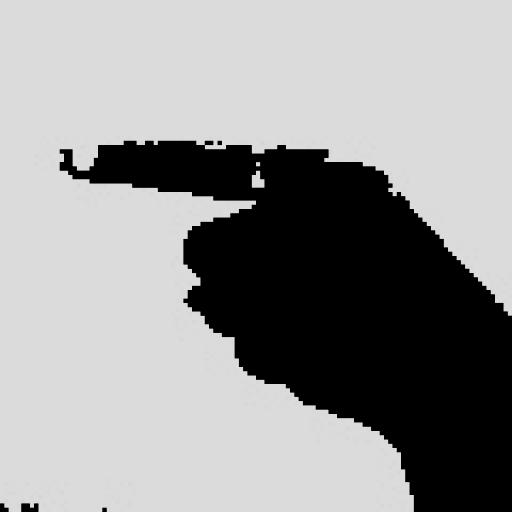index_left: (58, 138, 512, 384)
